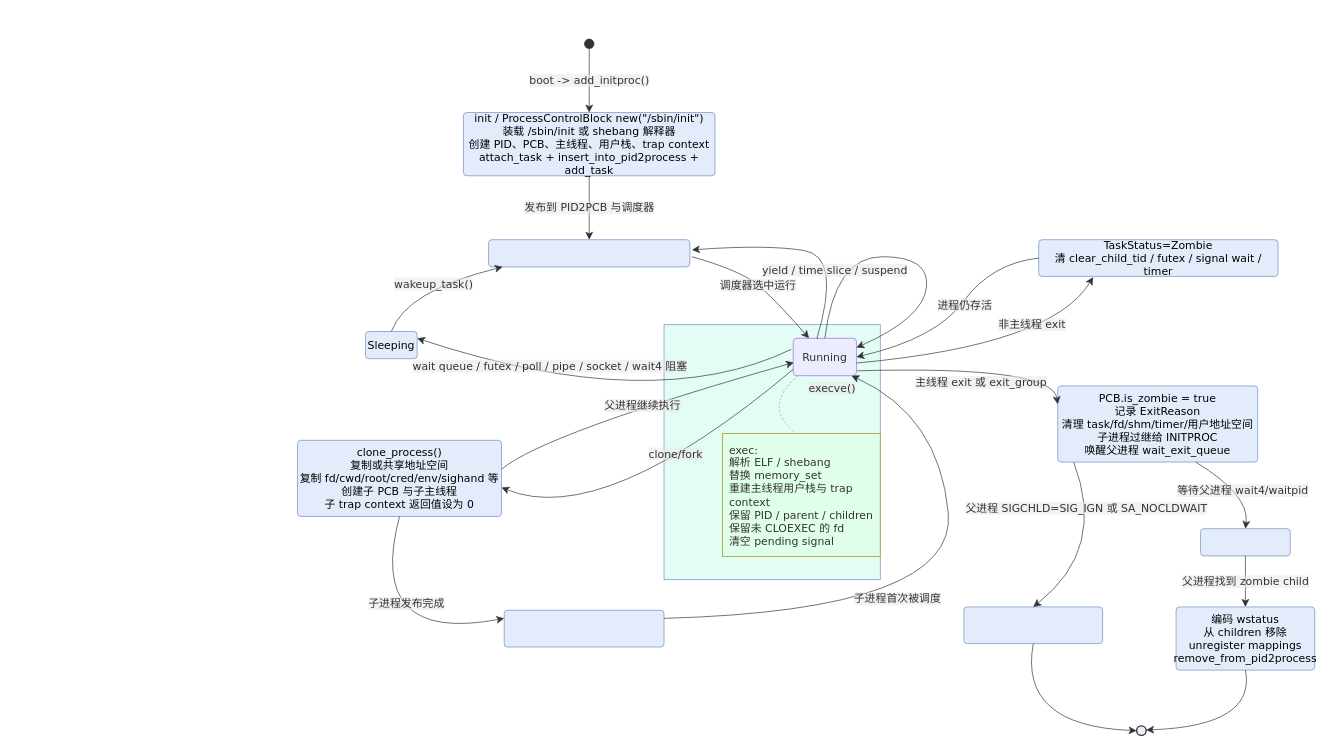
Some shapes in this 1328 by 747 pixel diagram are drawn without their labels. Here are the shapes that lost their labels. From the top down, the centre of each, then its label:
At (589,253): "进程存活 主线程 TaskStatus=Runnable".
At (1245,542): "WaitableZombie".
At (584,628): "子进程已插入 PID2PCB 主线程已 add_task".
At (1033,625): "从 parent.children 移除 remove_from_pid2process".
